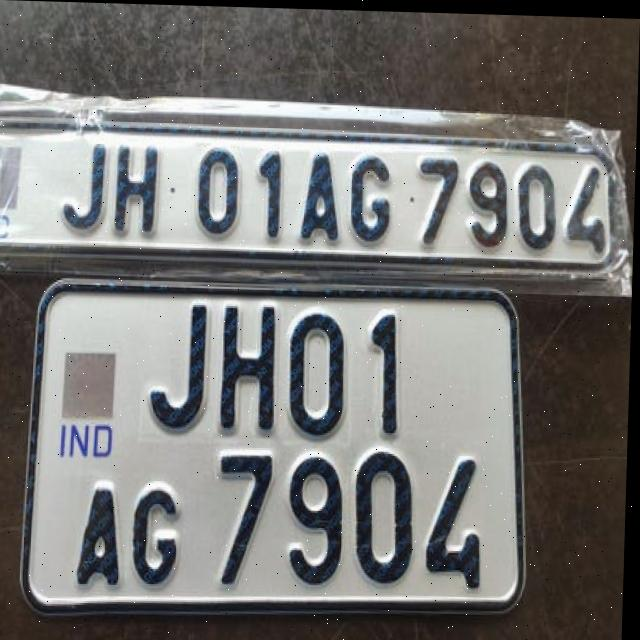plate: (21, 269, 537, 626), (0, 76, 638, 289)
